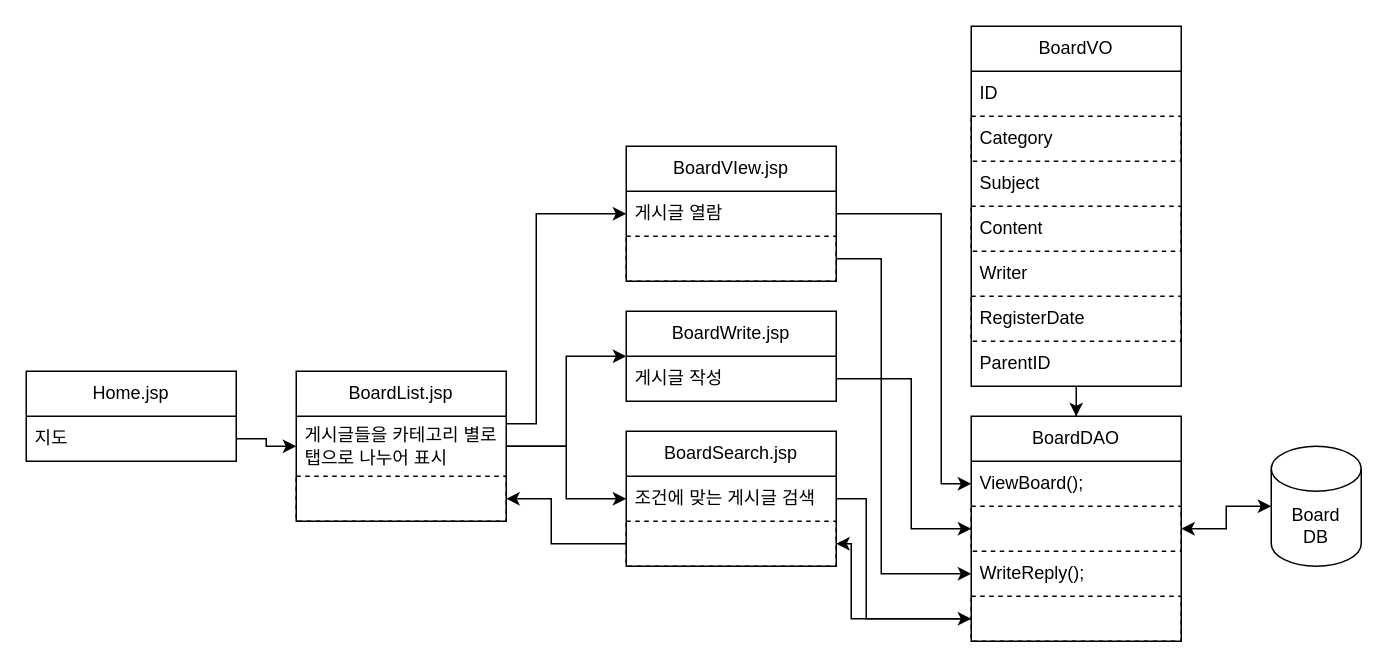
This 1388x668 diagram has some shape labels left out. The shapes that lost their labels are listed below. From the top down, each one's centre as x and y in pixels, then its label:
point (730, 258): 댓글 작성
point (400, 498): 검색 결과를 표시
point (730, 543): 검색 결과를 반환
point (1075, 528): WriteBoard();
point (1075, 618): SearchBoard();
